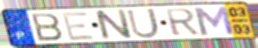B: (29, 12, 65, 42)
E: (60, 10, 97, 41)
M: (191, 5, 237, 37)
N: (92, 8, 134, 41)
R: (164, 8, 202, 38)
U: (125, 7, 162, 40)
